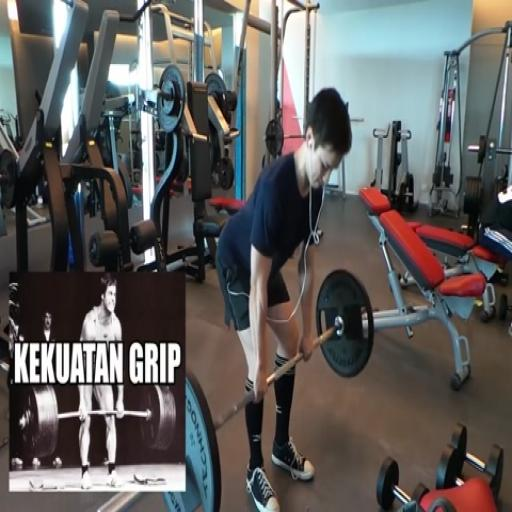exercise: (214, 86, 356, 510), (74, 273, 127, 494)
